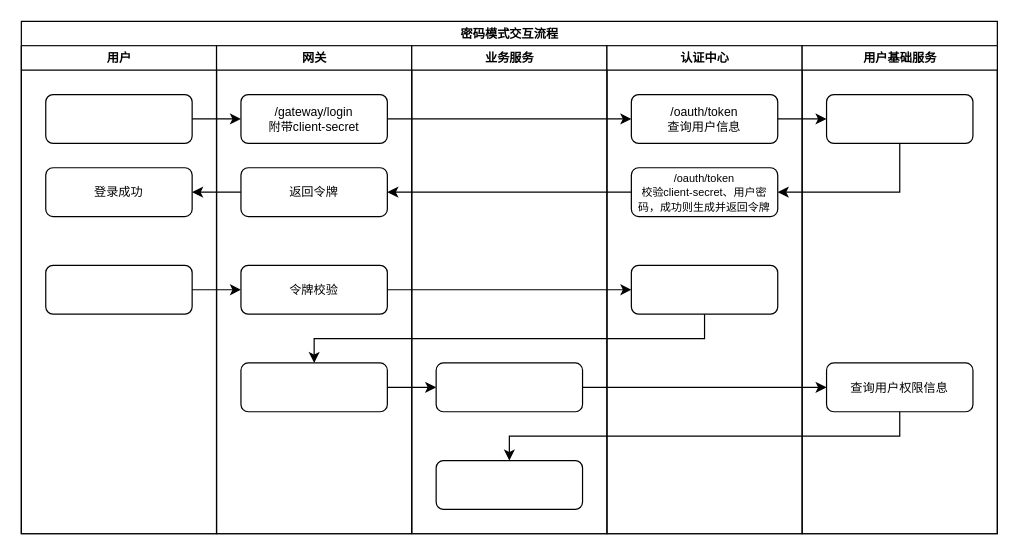
Some shapes in this 1019 by 555 pixel diagram are drawn without their labels. Here are the shapes that lost their labels. From the top down, the centre of each, then its label:
the point at 118,118: 登录 username、password
the point at 899,118: 查询用户信息
the point at 118,289: 业务操作 携带令牌
the point at 704,289: /oauth/check_token 检查令牌
the point at 313,387: 令牌校验成功 获取到用户信息
the point at 509,387: 权限校验 不放在网关是防止每次修改业务服务权限配置都要改网关
the point at 509,484: 校验成功后执行业务操作
